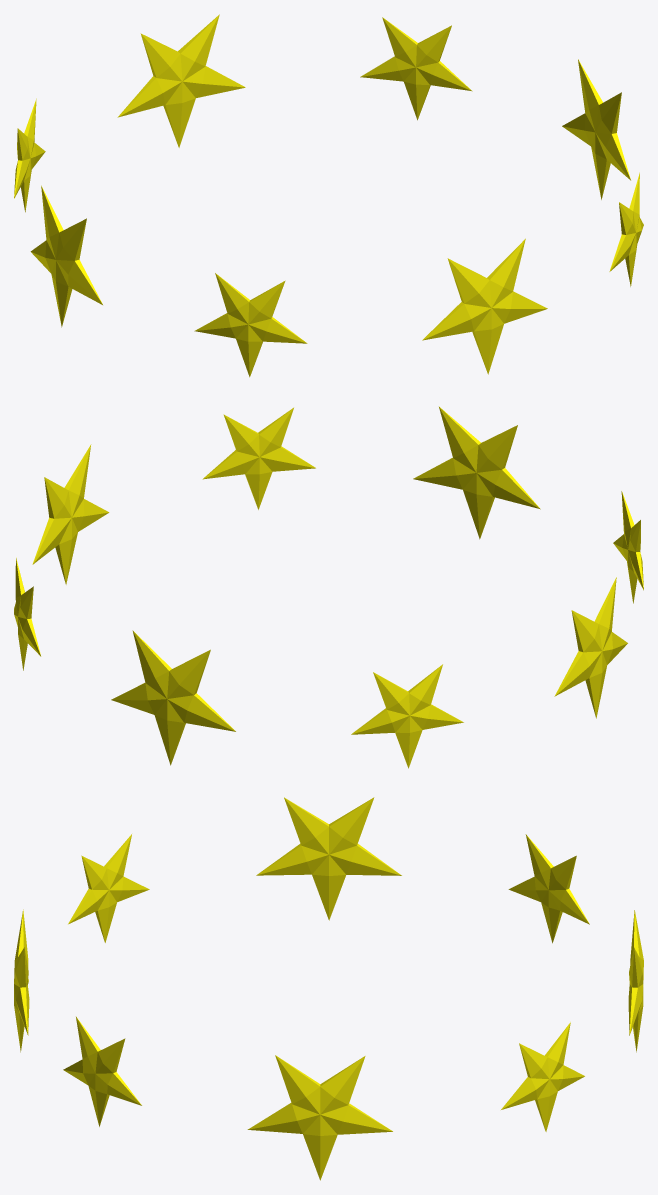
Rendered from STURN.fbx.
3 views of the same model, one above another, from view 1: azimuth 30°, elevation 25°; view 2: azimuth 150°, elevation 25°; view 3: azimuth 270°, elevation 25° (orthographic).
Visible parts, largest first — view 1: Circle; view 2: Circle; view 3: Circle.
Part boxes in pixels (x1,y1,x2,y2): Circle: [14, 14, 643, 377]; Circle: [14, 406, 643, 768]; Circle: [14, 797, 643, 1180].
Bounding box in the file's own units: 143 × 31.38 × 143.
